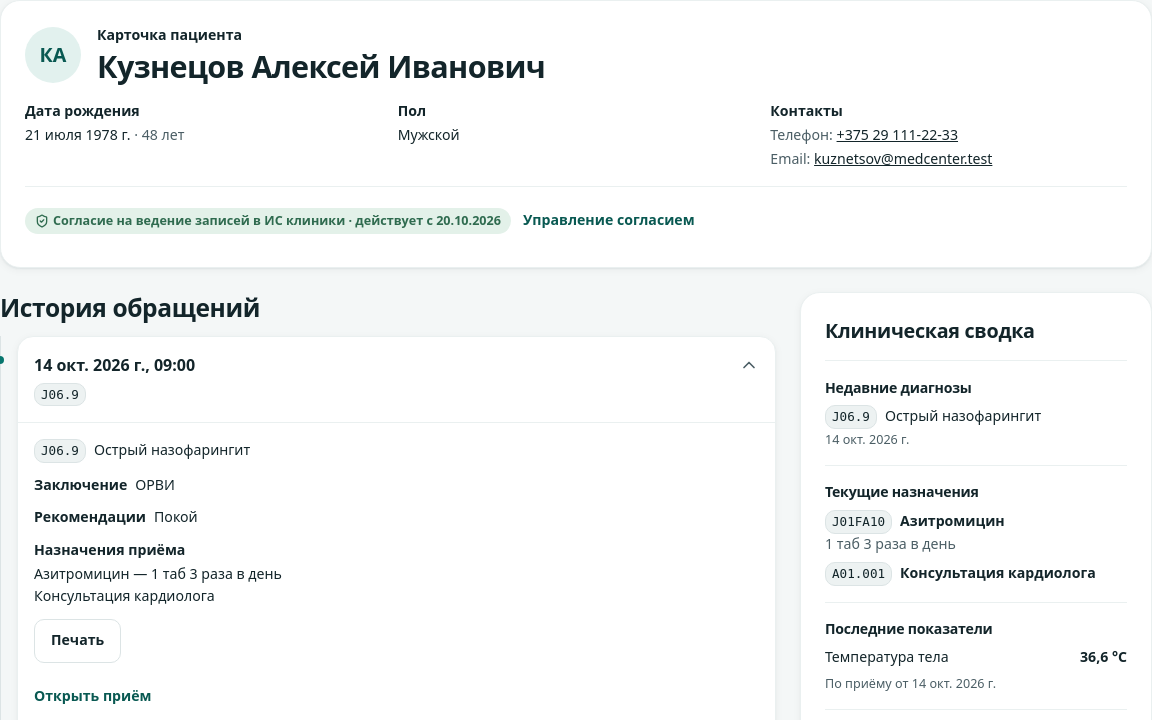
Test: PatientCardView consent (ADR-019, A1) › should open the management from the consent line of the header: status, scan and a quiet revocation, no recording form
This screenshot has width=1152, height=720.
Click the button "Управление согласием": click(609, 221) x1=523 y1=199 x2=695 y2=243
(page scrolled)
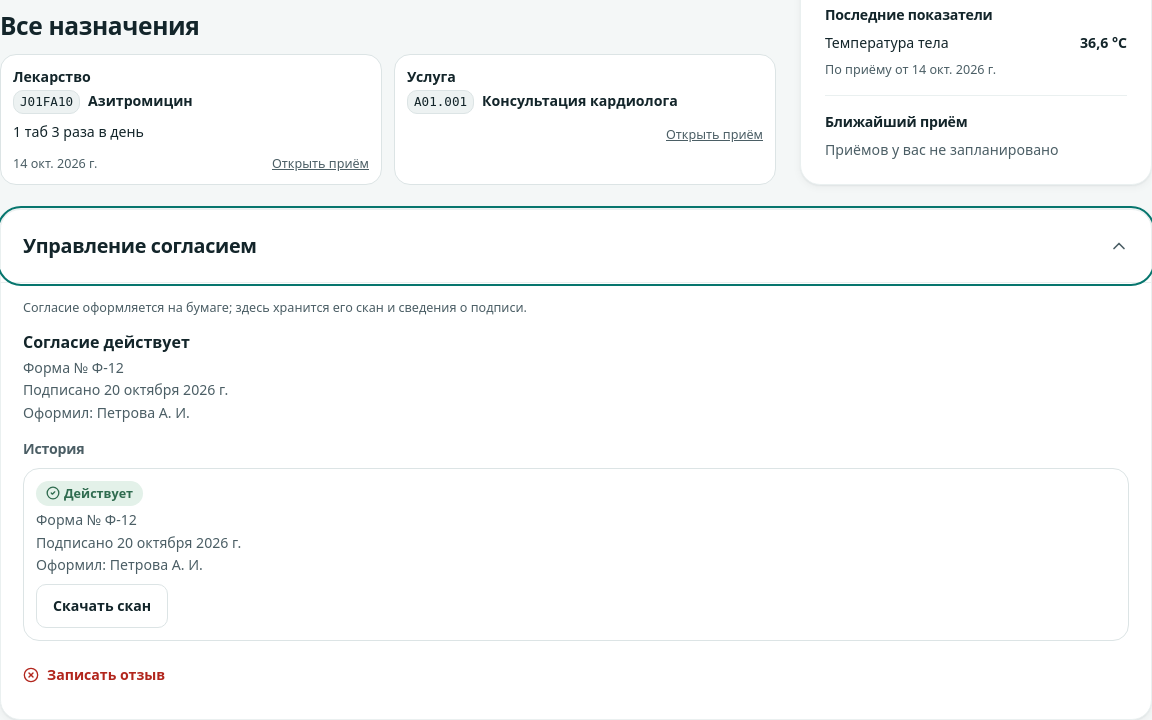
Expected: the text "Согласие действует" is shown, x1=23 y1=331 x2=190 y2=353
Expected: the button "Записать отзыв" is shown, x1=7 y1=653 x2=181 y2=697
